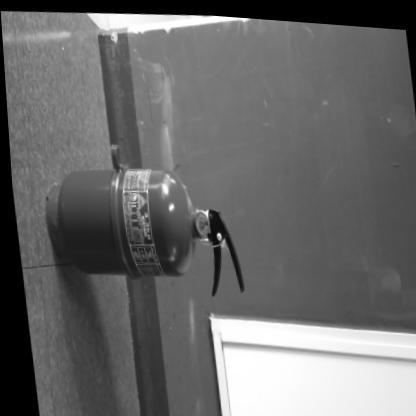FE: (34, 152, 243, 304)
